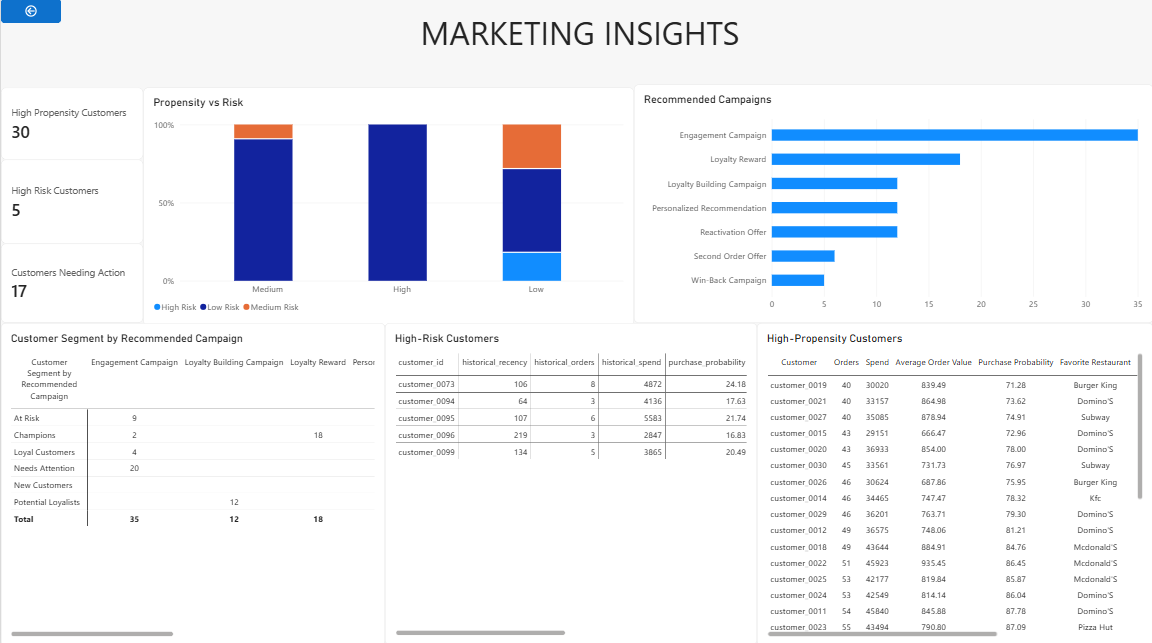

The page's visual inventory and layout, read from the dashboard file:
{"tool":"powerbi","page":{"name":"Marketing Insights","canvas":[1920,1080],"ordinal":3},"visuals":[{"type":"textbox","box":[10,0,1910,147.5],"z":0},{"type":"cardVisual","fields":{"Data":["customer_intelligence_final.High Propensity Customers"]},"box":[0,147.5,237.5,120],"z":1000},{"type":"cardVisual","fields":{"Data":["customer_intelligence_final.High Risk Customers"]},"box":[0,267.5,237.5,140],"z":2000},{"type":"cardVisual","fields":{"Data":["customer_intelligence_final.Recommended Campaigns"]},"box":[0,407.5,237.5,132.5],"z":3000},{"type":"barChart","title":"Recommended Campaigns ","fields":{"Category":["customer_intelligence_final.recommended_campaign"],"Y":["CountNonNull(customer_intelligence_final.customer_id)"]},"box":[1055,142.5,865,397.5],"z":4000},{"type":"hundredPercentStackedColumnChart","title":"Propensity vs Risk ","fields":{"Category":["customer_intelligence_final.propensity_category"],"Series":["customer_intelligence_final.inactivity_risk"],"Y":["CountNonNull(customer_intelligence_final.customer_id)"]},"box":[237.5,147.5,817.5,397.5],"z":5000},{"type":"pivotTable","title":"Customer Segment by Recommended Campaign","fields":{"Columns":["customer_intelligence_final.recommended_campaign"],"Rows":["customer_intelligence_final.customer_segment"],"Values":["Count(orders_powerbi.customer_id)"]},"box":[0,540,640,540],"z":6000},{"type":"tableEx","title":"High-Risk Customers ","fields":{"Values":["orders_powerbi.customer_id","customer_intelligence_final.historical_recency","customer_intelligence_final.historical_orders","customer_intelligence_final.historical_spend","customer_intelligence_final.purchase_probability","customer_intelligence_final.propensity_category","customer_intelligence_final.inactivity_risk","customer_intelligence_final.recommended_campaign","customer_intelligence_final.favorite_restaurant","customer_intelligence_final.favorite_food"]},"box":[640.5,540.6,620.1,538.3],"z":7000},{"type":"tableEx","title":"  High-Propensity Customers         ","fields":{"Values":["customer_intelligence_final.customer_id1","customer_intelligence_final.historical_orders","customer_intelligence_final.historical_spend","orders_powerbi.Average Order Value","customer_intelligence_final.purchase_probability","customer_intelligence_final.favorite_restaurant","customer_intelligence_final.favorite_food","customer_intelligence_final.recommended_campaign","customer_intelligence_final.propensity_category"]},"box":[1260,540,660,540],"z":8000},{"type":"actionButton","box":[0,0,100,40],"z":9000}]}

Visuals, with their boxes in screenshot pixels (x1, y1, x2, y2), scaled from the page's 1920x1080 canvas onto the 1152x643 screenshot:
textbox: l=6, t=0, r=1151, b=88
cardVisual - customer_intelligence_final.High Propensity Customers: l=0, t=88, r=142, b=159
cardVisual - customer_intelligence_final.High Risk Customers: l=0, t=159, r=142, b=243
cardVisual - customer_intelligence_final.Recommended Campaigns: l=0, t=243, r=142, b=322
"Recommended Campaigns " barChart: l=633, t=85, r=1151, b=322
"Propensity vs Risk " hundredPercentStackedColumnChart: l=142, t=88, r=633, b=324
"Customer Segment by Recommended Campaign" pivotTable: l=0, t=322, r=384, b=642
"High-Risk Customers " tableEx: l=384, t=322, r=756, b=642
"  High-Propensity Customers         " tableEx: l=756, t=322, r=1151, b=642
actionButton: l=0, t=0, r=60, b=24
